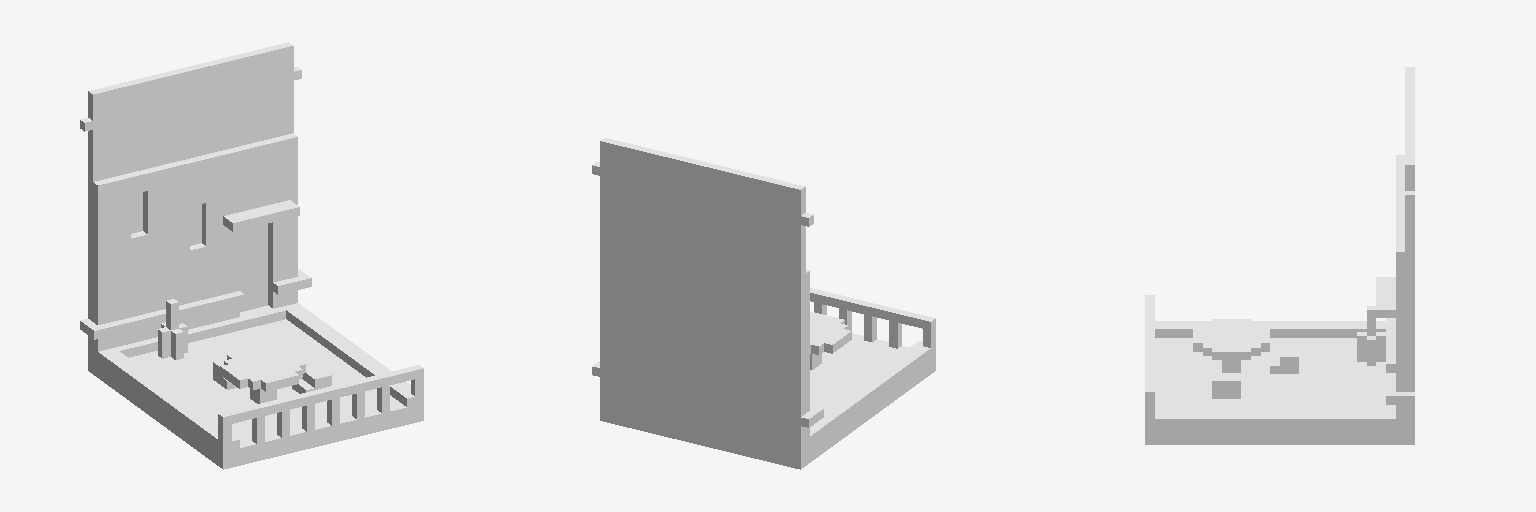
File: tile_3_left_nr_90.obj
3 views of the same model, side by side, from view 1: azimuth 30°, elevation 25°; view 2: azimuth 150°, elevation 25°; view 3: azimuth 270°, elevation 25° (orthographic).
Visible parts, largest first — view 1: object 1; view 2: object 1; view 3: object 1.
Part boxes in pixels (bbox=[...]): object 1: bbox=[80, 42, 423, 469]; object 1: bbox=[592, 138, 935, 469]; object 1: bbox=[1145, 67, 1414, 444].
Bounding box in the file's own units: 2.6 × 3.2 × 2.8.